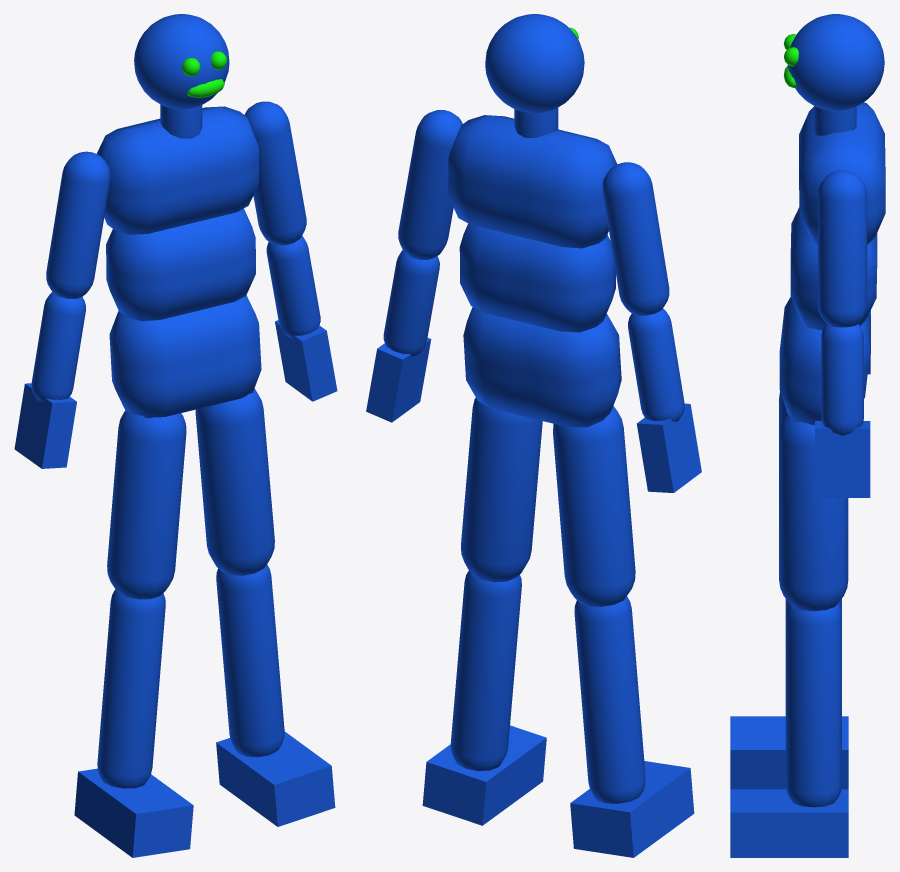
File: ragdoll.fbx
The picture shows the model from 3 angles, left to right: view 1: azimuth 30°, elevation 25°; view 2: azimuth 150°, elevation 25°; view 3: azimuth 270°, elevation 25°; orthographic projection. The views are drawn at different scales.
Parts seen in each view (by area): view 1: -convexhull_002, -convexhull_0, -convexhull_001, -Capsule002, -Capsule005, -Capsule003, -Capsule004, -Box001, -Box002, -Capsule010, -Sphere001, -Capsule007 (+5 smaller); view 2: -convexhull_002, -convexhull_0, -Capsule002, -convexhull_001, -Capsule005, -Capsule003, -Capsule004, -Sphere001, -Capsule010, -Box001, -Box002, -Capsule007 (+5 smaller); view 3: -Capsule004, -Capsule005, -Box002, -Capsule007, -Sphere001, -convexhull_002, -convexhull_0, -Box001, -Capsule008, -Box003, -convexhull_001, -Capsule006.
Boxes of the visible parts, x1,y1,x2,y2 form: -convexhull_002: (96,106,258,234); -convexhull_0: (109,295,261,418); -convexhull_001: (106,208,255,321); -Capsule002: (107,410,186,599); -Capsule005: (195,388,274,575); -Capsule003: (97,589,165,788); -Capsule004: (216,564,284,757); -Box001: (74,768,193,857); -Box002: (216,731,335,826); -Capsule010: (46,151,110,298); -Sphere001: (134,14,229,109); -Capsule007: (244,101,306,245); -convexhull_002: (448,115,617,248); -convexhull_0: (463,307,621,427); -Capsule002: (553,406,635,606); -convexhull_001: (459,223,615,332); -Capsule005: (461,397,542,582); -Capsule003: (574,596,645,803); -Capsule004: (450,570,521,771); -Sphere001: (485,14,584,113); -Capsule010: (602,162,669,315); -Box001: (570,761,694,857); -Box002: (422,725,546,825); -Capsule007: (398,110,462,259); -Capsule004: (785,603,841,807); -Capsule005: (779,414,848,611); -Box002: (730,789,848,857); -Capsule007: (818,170,867,327); -Sphere001: (787,14,884,110); -convexhull_002: (799,102,885,244); -convexhull_0: (779,297,870,425); -Box001: (730,716,848,789); -Capsule008: (821,324,863,435); -Box003: (815,421,870,497); -convexhull_001: (790,207,877,330); -Capsule006: (814,106,856,135).
Size of the model in its own units: 71.37 by 31.89 by 180.
